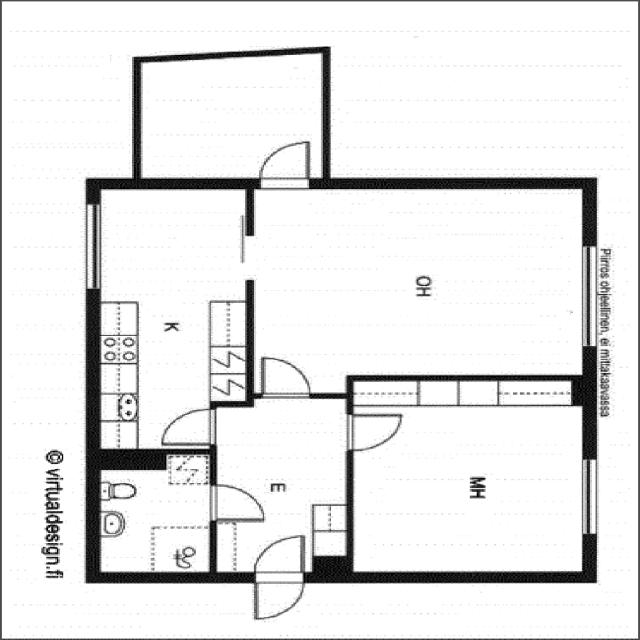door: (247, 528, 310, 621), (254, 353, 323, 403), (253, 136, 315, 186), (201, 481, 269, 524), (340, 409, 406, 453), (156, 403, 219, 448)
window: (572, 243, 604, 351), (74, 197, 109, 294), (574, 454, 605, 540)
zone: (250, 178, 591, 398), (346, 380, 592, 582), (90, 183, 250, 450), (210, 395, 352, 568), (137, 53, 320, 183), (95, 456, 215, 580)
